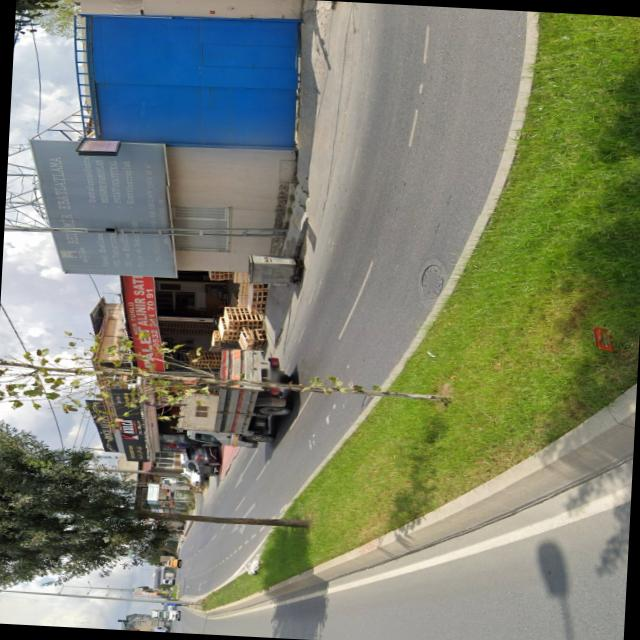Utility Pole Information Plate: (106, 227, 115, 230)
